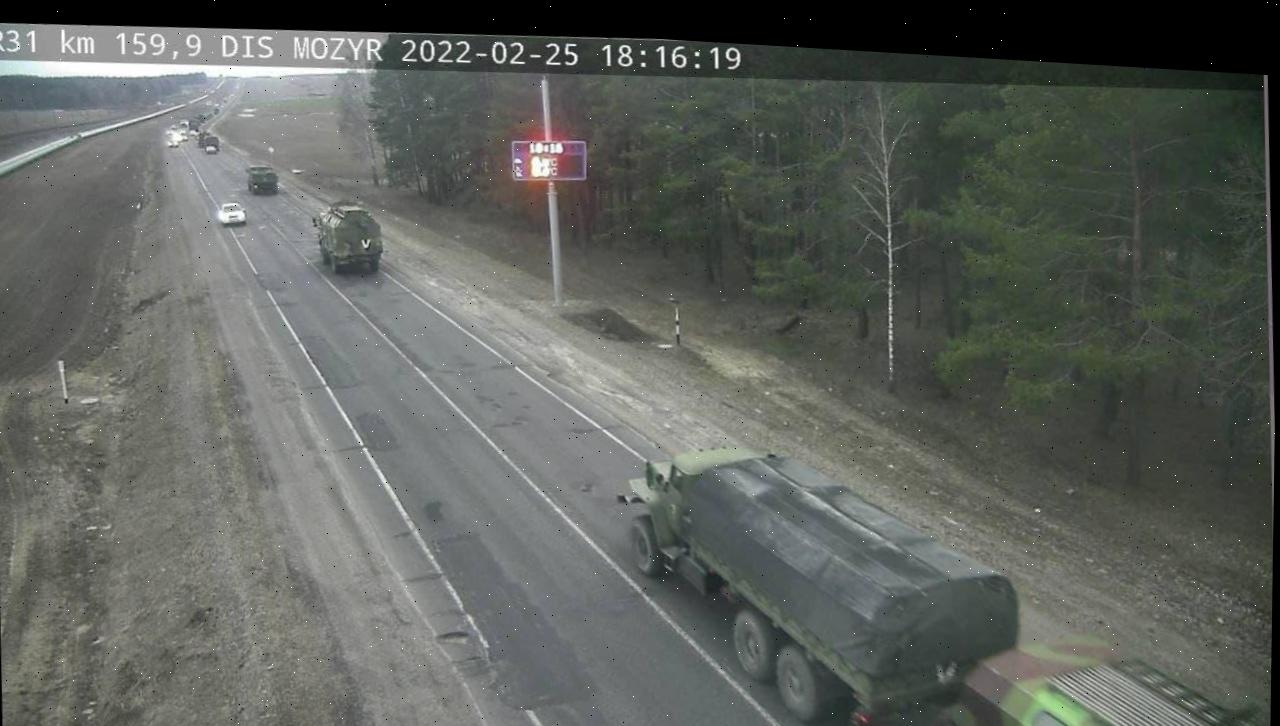car: (211, 201, 245, 230)
truck: (617, 398, 1019, 726), (309, 200, 383, 281), (241, 161, 281, 200)
